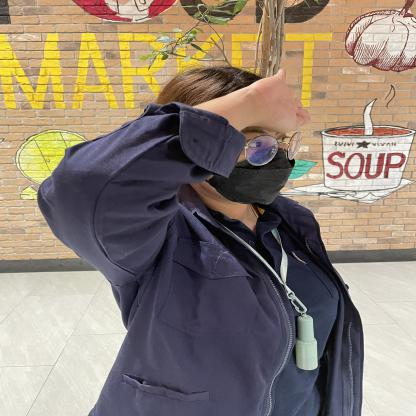Sick: (112, 56, 344, 163)
